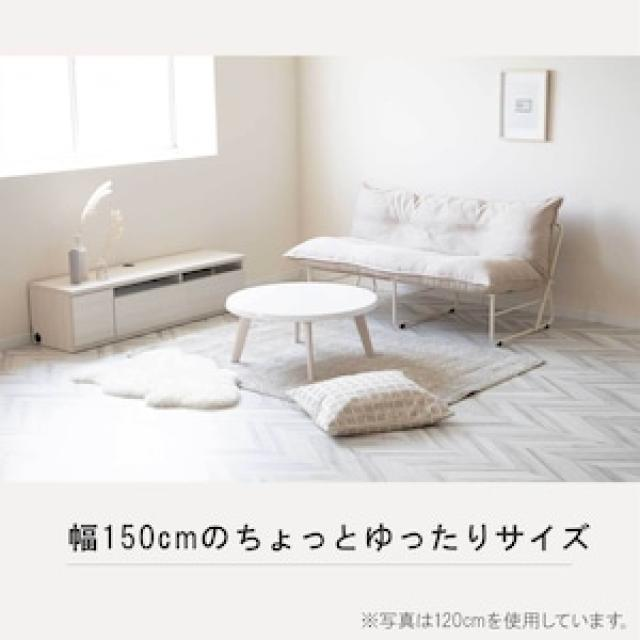white shelf: (23, 245, 221, 342)
white sofa: (285, 188, 560, 352)
